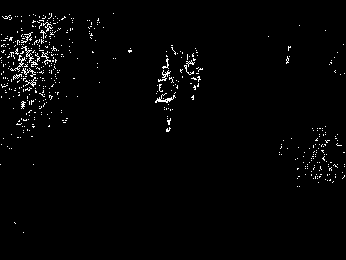person: (157, 68, 179, 133)
